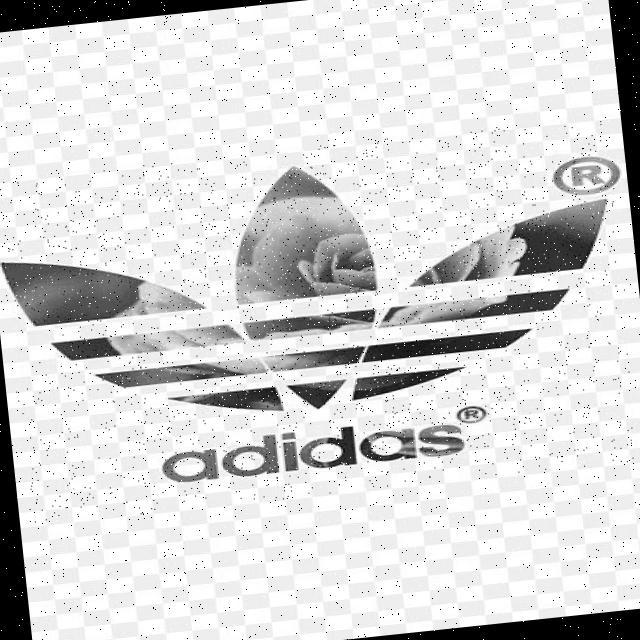Adidas: (0, 114, 640, 525)
